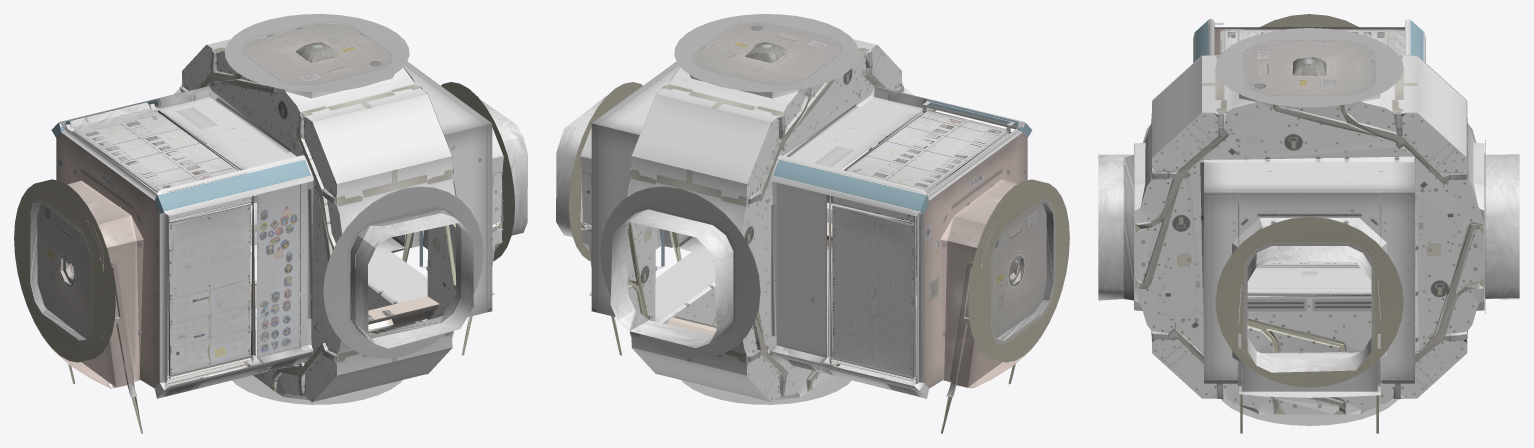
The picture shows the model from 3 angles, left to right: view 1: azimuth 30°, elevation 25°; view 2: azimuth 150°, elevation 25°; view 3: azimuth 270°, elevation 25°; orthographic projection.
Visible parts, largest first — view 1: Node1_Int_Metal_Hatch_Zenith; view 2: Node1_Int_Metal_Hatch_Zenith; view 3: Node1_Int_Metal_Hatch_Zenith.
Boxes of the visible parts, x1,y1,x2,y2 form: Node1_Int_Metal_Hatch_Zenith: (14, 14, 527, 433); Node1_Int_Metal_Hatch_Zenith: (556, 14, 1069, 433); Node1_Int_Metal_Hatch_Zenith: (1098, 14, 1519, 433).
Bounding box in the file's own units: 5.19 × 4.26 × 3.72.
6 materials, 6 textured.
